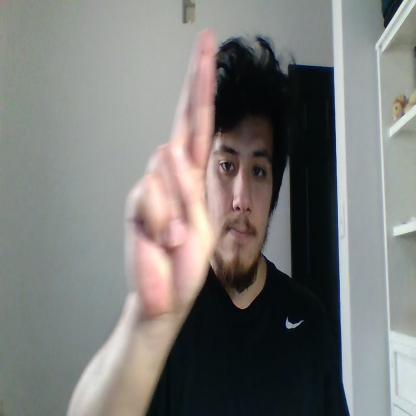R: (124, 30, 216, 314)
